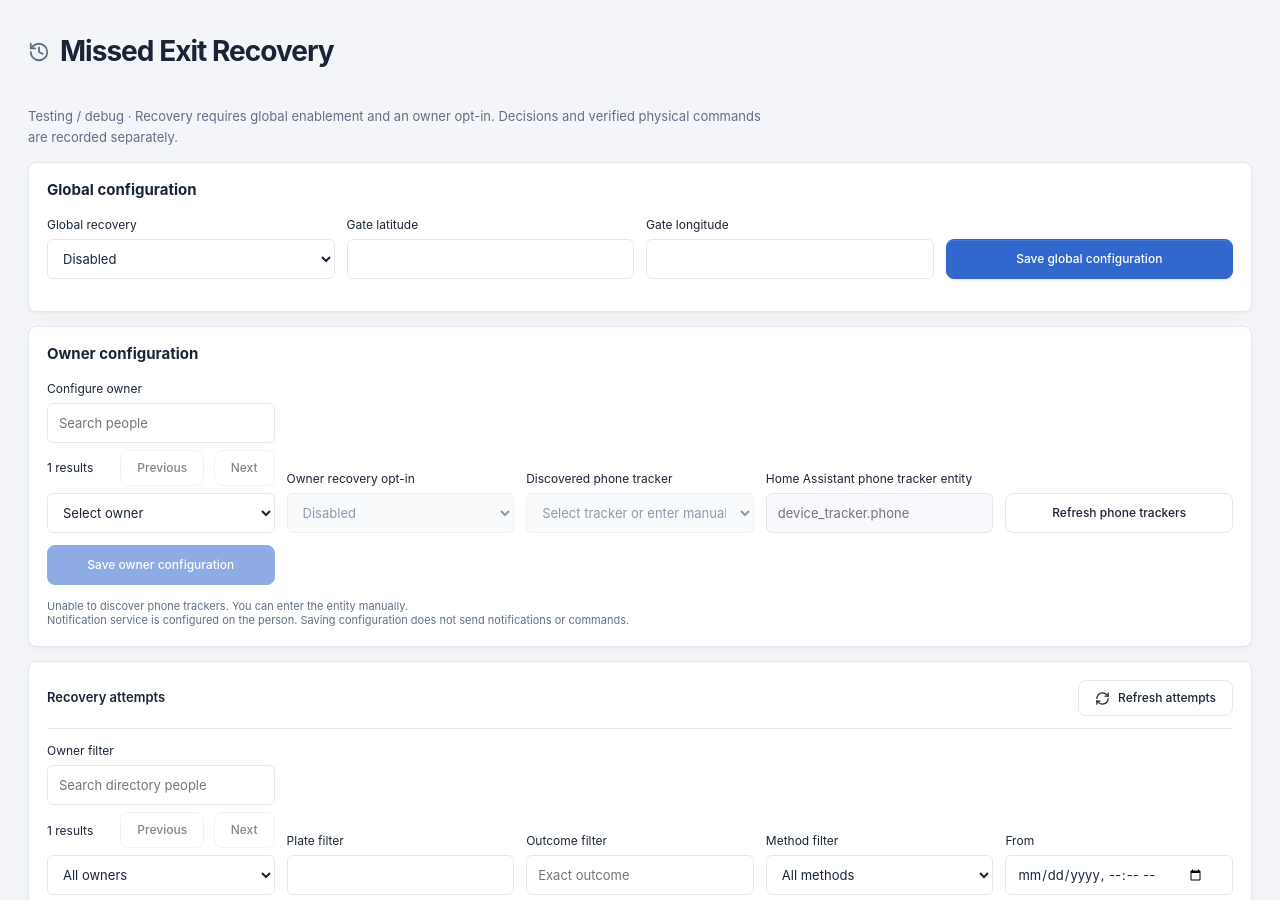
Test: starts disabled and blocks enabling without gate coordinates before confirmation
Select "Enabled" in the dropdown labelled "Global recovery" at [191, 259], box [47,239,334,279]
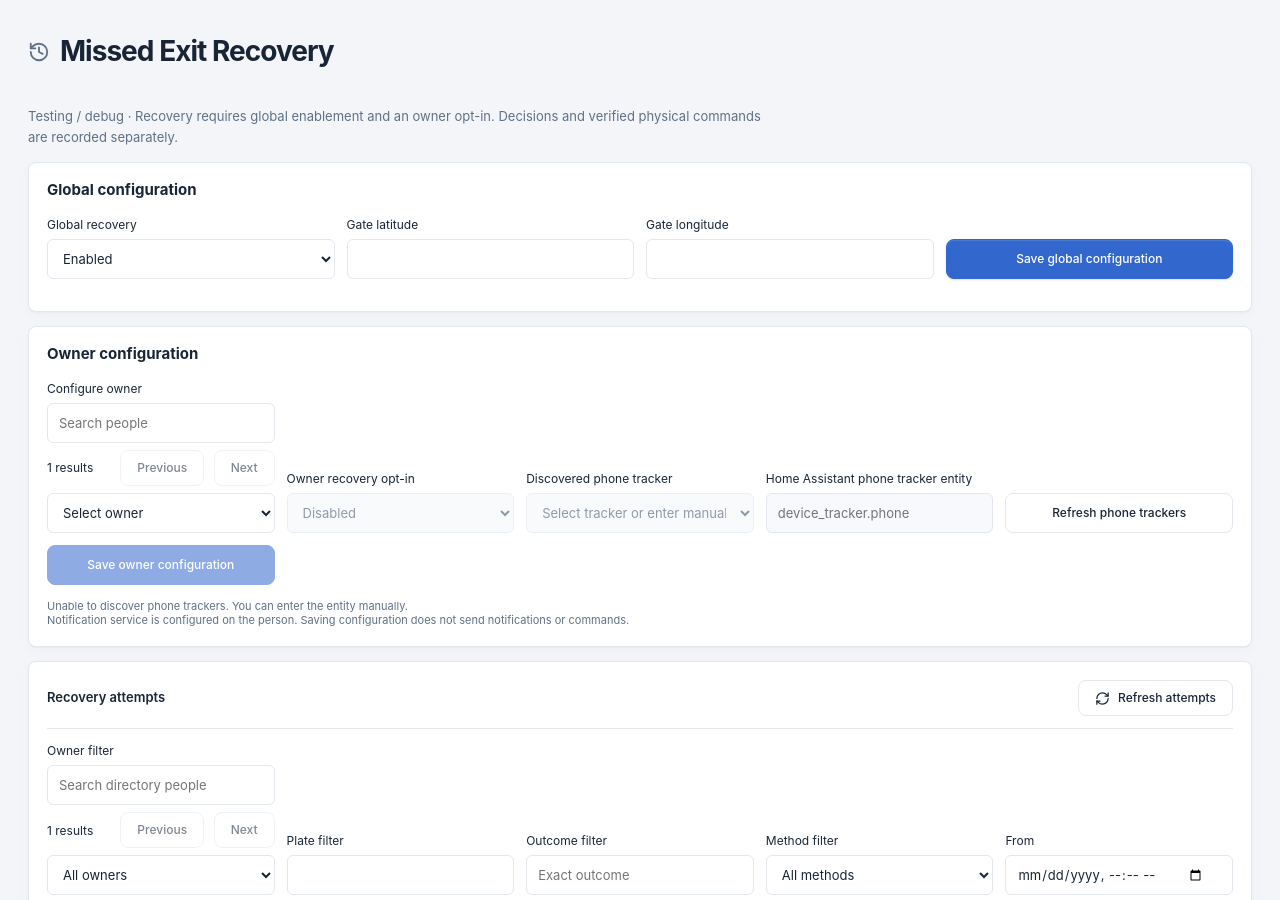
Click the button "Save global configuration" at [1089, 259], box [946,239,1233,279]
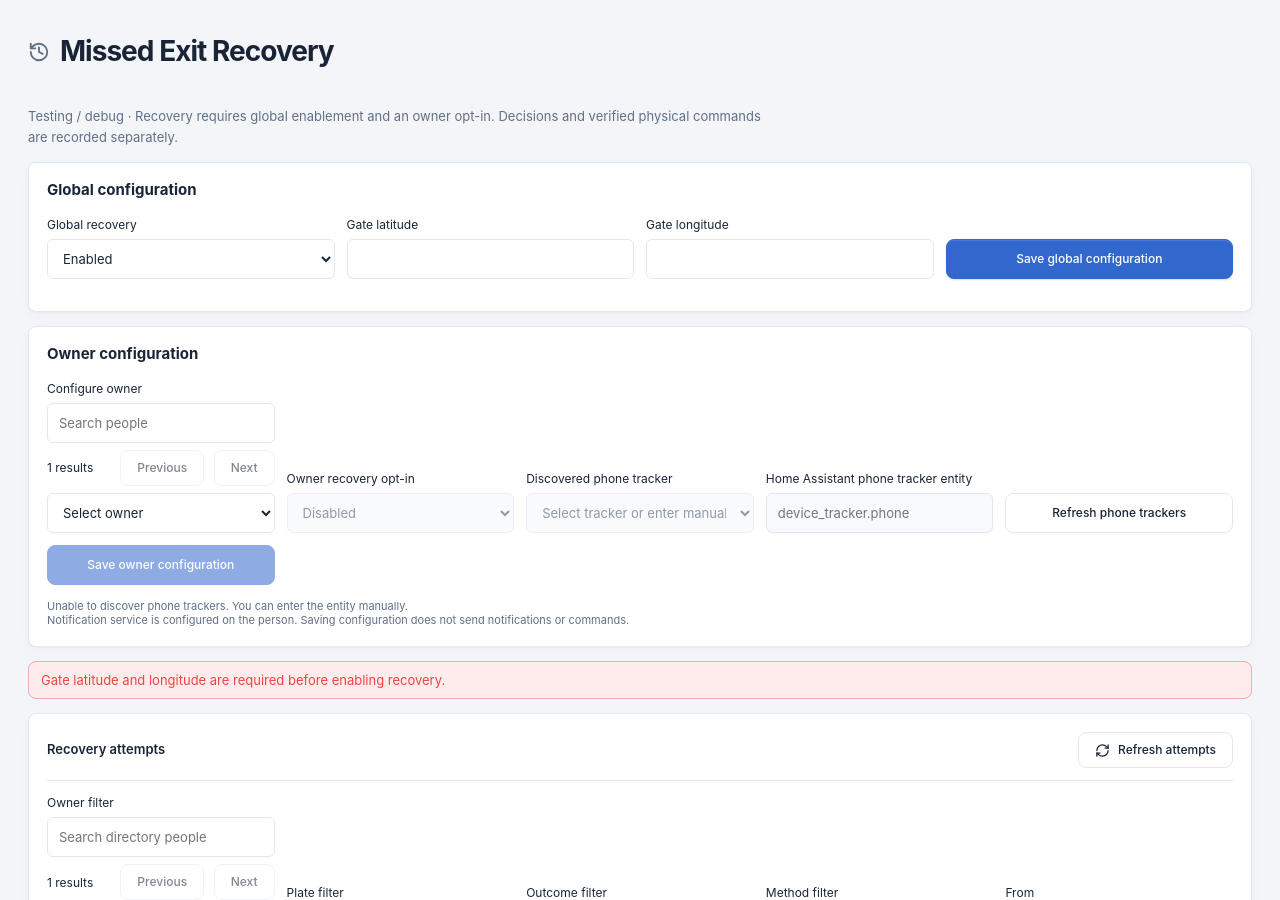
Now the message shows "Gate latitude and longitude are required", box [41,672,445,688]
